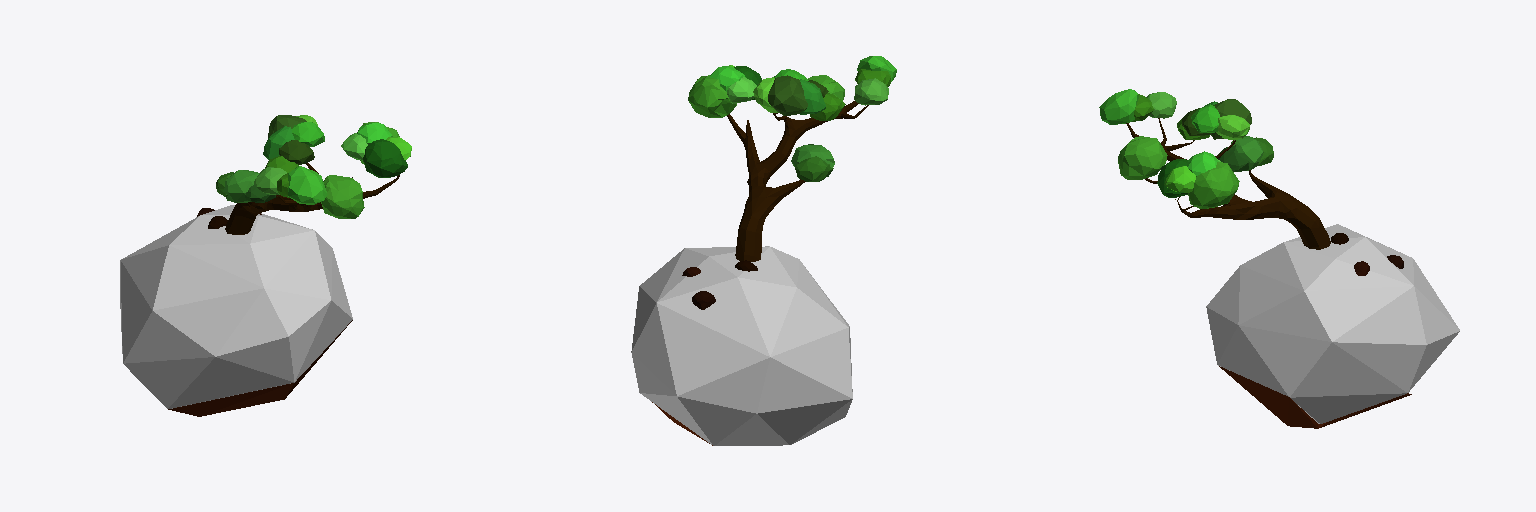
File: island2.obj
The picture shows the model from 3 angles: view 1: azimuth 30°, elevation 25°; view 2: azimuth 150°, elevation 25°; view 3: azimuth 270°, elevation 25°; orthographic projection.
Visible parts, largest first — view 1: Icosphere_Icosphere.022, Icosphere.021_Icosphere.010, Cube, Icosphere.002, Icosphere.007, Icosphere.004, Icosphere.003, Icosphere.012_Icosphere.016, Icosphere.013_Icosphere.017, Icosphere.000_Icosphere.011, Icosphere.011_Icosphere.015; view 2: Icosphere_Icosphere.022, Cube, Icosphere.006, Icosphere.001, Icosphere.000_Icosphere.011, Icosphere.016_Icosphere.020, Icosphere.003, Icosphere.011_Icosphere.015, Icosphere.010_Icosphere.014; view 3: Icosphere_Icosphere.022, Cube, Icosphere.021_Icosphere.010, Icosphere.002, Icosphere.006, Icosphere.004, Icosphere.014_Icosphere.018, Icosphere.013_Icosphere.017, Icosphere.009_Icosphere.013, Icosphere.003, Icosphere.000_Icosphere.011, Icosphere.001.
Part boxes in pixels (bbox=[...]): Icosphere_Icosphere.022: bbox=[120, 205, 352, 408]; Icosphere.021_Icosphere.010: bbox=[168, 320, 352, 416]; Cube: bbox=[225, 163, 399, 234]; Icosphere.002: bbox=[321, 175, 364, 218]; Icosphere.007: bbox=[363, 139, 407, 177]; Icosphere.004: bbox=[288, 166, 327, 204]; Icosphere.003: bbox=[223, 170, 259, 202]; Icosphere.012_Icosphere.016: bbox=[279, 140, 314, 164]; Icosphere.013_Icosphere.017: bbox=[292, 122, 324, 146]; Icosphere.000_Icosphere.011: bbox=[254, 167, 286, 194]; Icosphere.011_Icosphere.015: bbox=[263, 126, 294, 159]; Icosphere_Icosphere.022: bbox=[631, 246, 852, 445]; Cube: bbox=[727, 101, 868, 261]; Icosphere.006: bbox=[688, 75, 736, 117]; Icosphere.001: bbox=[768, 75, 807, 115]; Icosphere.000_Icosphere.011: bbox=[854, 78, 888, 105]; Icosphere.016_Icosphere.020: bbox=[795, 156, 833, 181]; Icosphere.003: bbox=[791, 145, 834, 176]; Icosphere.011_Icosphere.015: bbox=[800, 79, 825, 114]; Icosphere.010_Icosphere.014: bbox=[727, 77, 756, 103]; Icosphere_Icosphere.022: bbox=[1206, 224, 1459, 423]; Cube: bbox=[1126, 118, 1330, 249]; Icosphere.021_Icosphere.010: bbox=[1219, 366, 1411, 428]; Icosphere.002: bbox=[1118, 136, 1167, 179]; Icosphere.006: bbox=[1188, 162, 1239, 208]; Icosphere.004: bbox=[1099, 89, 1138, 124]; Icosphere.014_Icosphere.018: bbox=[1216, 115, 1249, 139]; Icosphere.013_Icosphere.017: bbox=[1191, 104, 1219, 132]; Icosphere.009_Icosphere.013: bbox=[1164, 166, 1195, 192]; Icosphere.003: bbox=[1231, 136, 1263, 170]; Icosphere.000_Icosphere.011: bbox=[1146, 92, 1176, 118]; Icosphere.001: bbox=[1210, 99, 1251, 139].
Bounding box in the file's own units: 8.11 × 11.19 × 11.64.